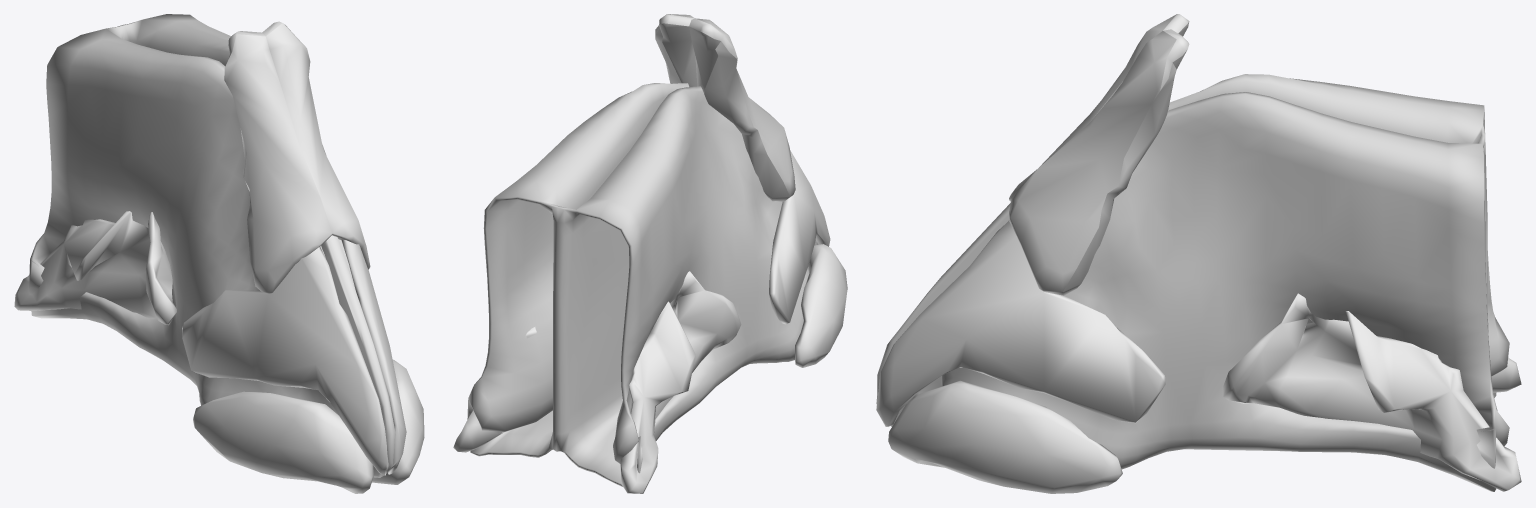
File: nariz.glb
The picture shows the model from 3 angles, left to right: view 1: azimuth 30°, elevation 25°; view 2: azimuth 150°, elevation 25°; view 3: azimuth 270°, elevation 25°; orthographic projection. The views are drawn at different scales.
Visible parts, largest first — view 1: mucosa, cartilagens, ossos, conchas; view 2: mucosa, conchas, ossos, cartilagens; view 3: mucosa, cartilagens, conchas, ossos.
Boxes of the visible parts, left/top/right/bottom form: mucosa: left=29, top=14, right=355, bottom=414; cartilagens: left=182, top=235, right=424, bottom=493; ossos: left=224, top=21, right=370, bottom=293; conchas: left=14, top=211, right=176, bottom=325; mucosa: left=467, top=83, right=809, bottom=493; conchas: left=453, top=271, right=741, bottom=493; ossos: left=655, top=14, right=795, bottom=201; cartilagens: left=769, top=150, right=847, bottom=367; mucosa: left=941, top=74, right=1509, bottom=491; cartilagens: left=876, top=202, right=1165, bottom=493; conchas: left=1223, top=293, right=1521, bottom=491; ossos: left=1009, top=14, right=1189, bottom=295.
Size of the model in its own units: 0.0298 by 0.0569 by 0.0749.
Materials: 4 (1 with a texture image).
